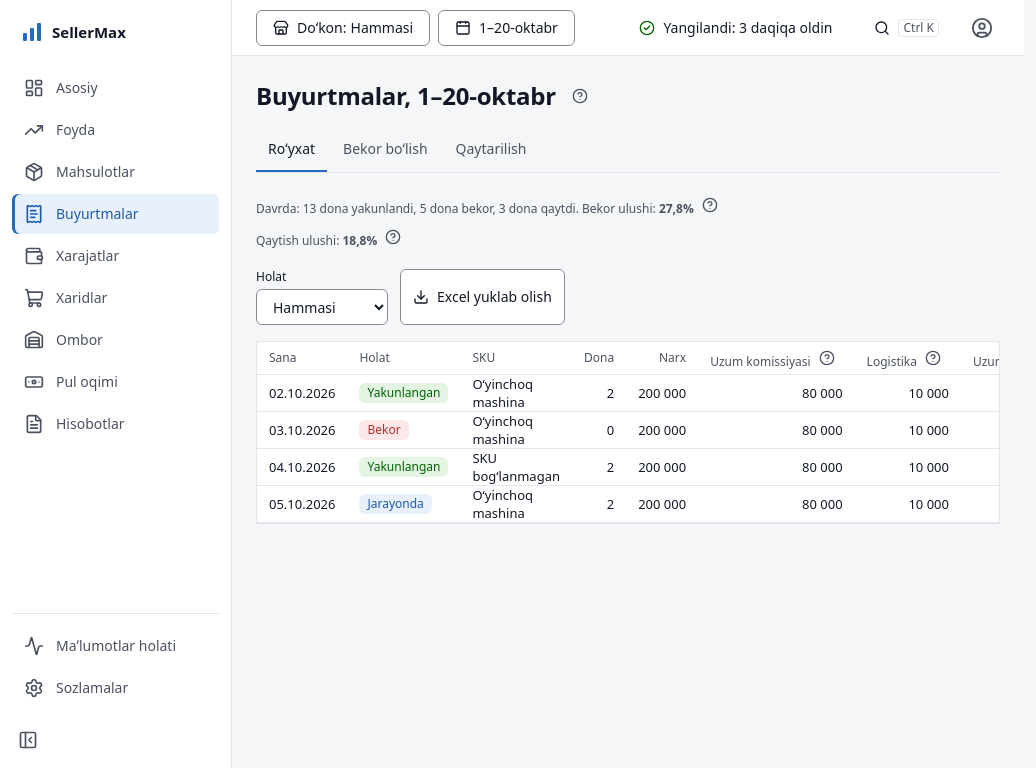
Test: tahlil › bo'limlar URL'da; bekor: ulush, topshirilgandan keyin, sabablar, SKU bo'yicha
Expected: the table named "Buyurtmalar: sotuv qatorlari" is shown, [257,342,1000,523]
Click the tab "Bekor boʻlish". click: x=385, y=150
box: [331,128,440,172]
(page scrolled)
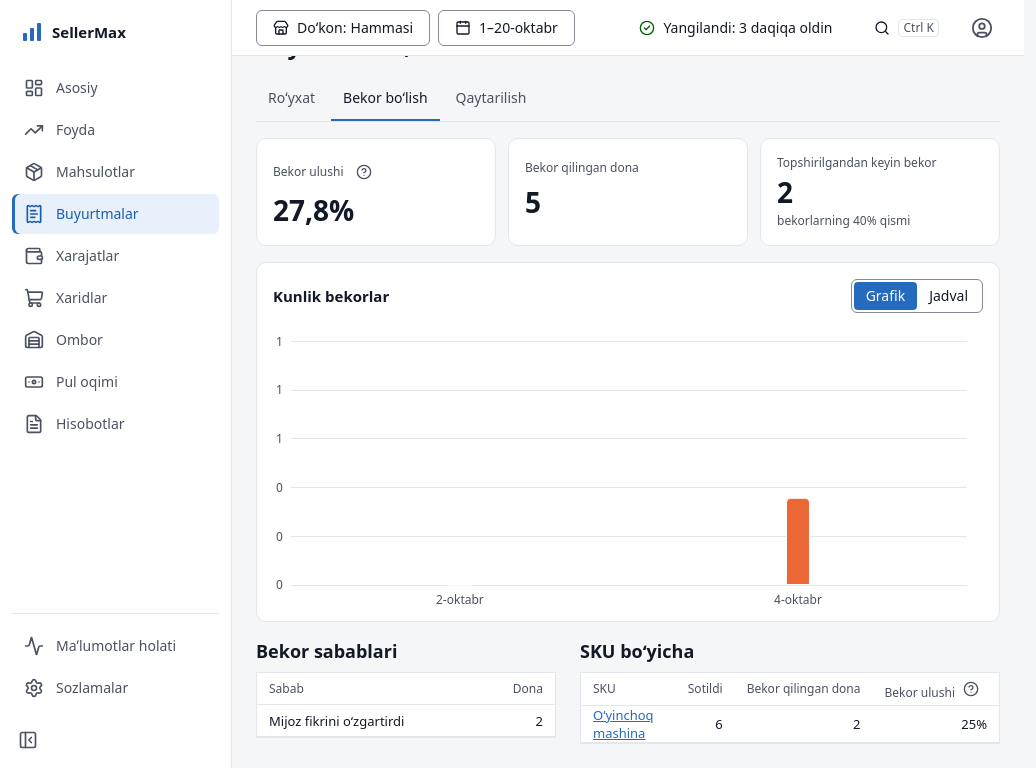
Expected: the table named "Bekor sabablari" is shown, [257,673,555,737]
Expected: the text "Topshirilgandan keyin bekor" is shown, [777,154,936,171]
Expected: the column heading "Mijoz fikrini oʻzgartirdi" is shown, [257,705,479,737]
